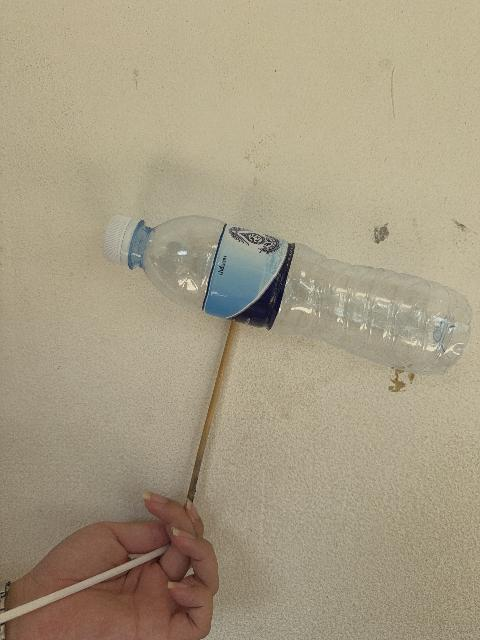bottle: (103, 216, 471, 374)
